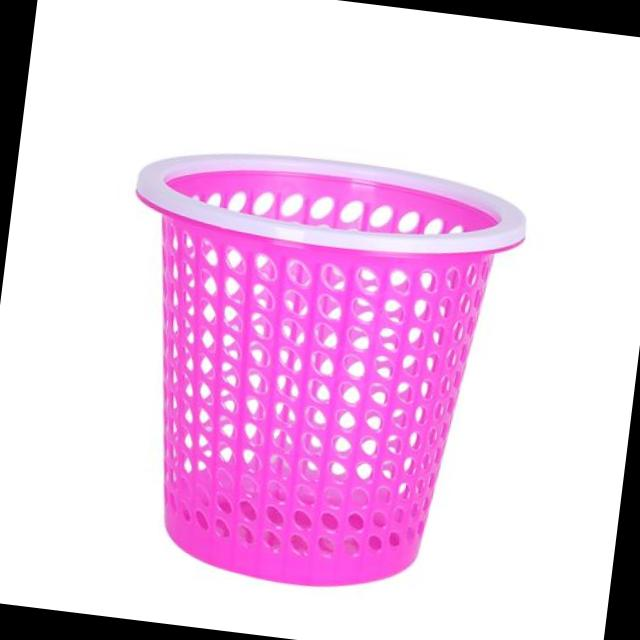dustbin: (86, 132, 534, 614)
